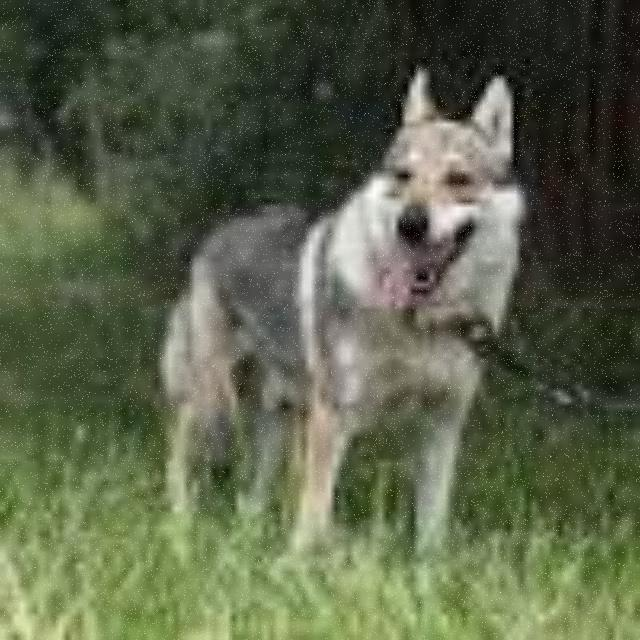dog: (130, 74, 548, 536)
